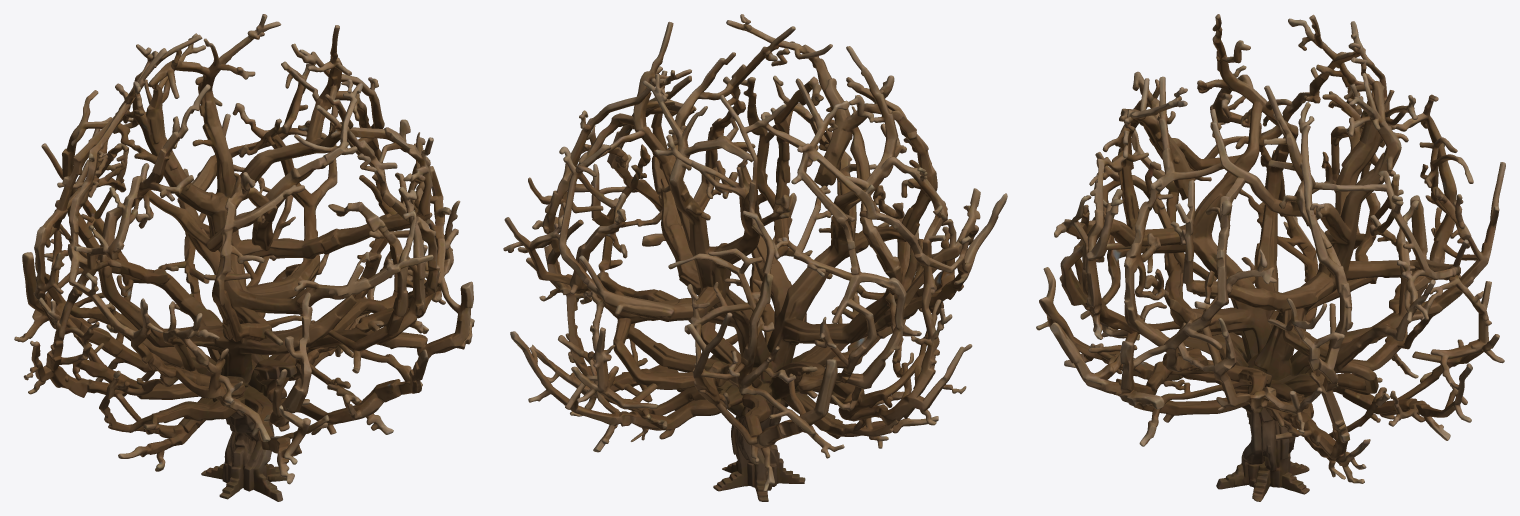
Rendered from dead_bush.glb.
3 renders of one model, left to right at view 1: azimuth 30°, elevation 25°; view 2: azimuth 150°, elevation 25°; view 3: azimuth 270°, elevation 25°, orthographic.
Parts seen in each view (by area): view 1: Mesh::generatedModels/I4kKHnJkpv85jWHBOCt2.gltf; view 2: Mesh::generatedModels/I4kKHnJkpv85jWHBOCt2.gltf; view 3: Mesh::generatedModels/I4kKHnJkpv85jWHBOCt2.gltf.
Boxes of the visible parts, x1,y1,x2,y2 form: Mesh::generatedModels/I4kKHnJkpv85jWHBOCt2.gltf: (14, 14, 474, 501); Mesh::generatedModels/I4kKHnJkpv85jWHBOCt2.gltf: (503, 14, 1007, 501); Mesh::generatedModels/I4kKHnJkpv85jWHBOCt2.gltf: (1036, 14, 1505, 501).
Bounding box in the file's own units: 1 × 0.9972 × 0.9598.
1 material, 1 textured.
